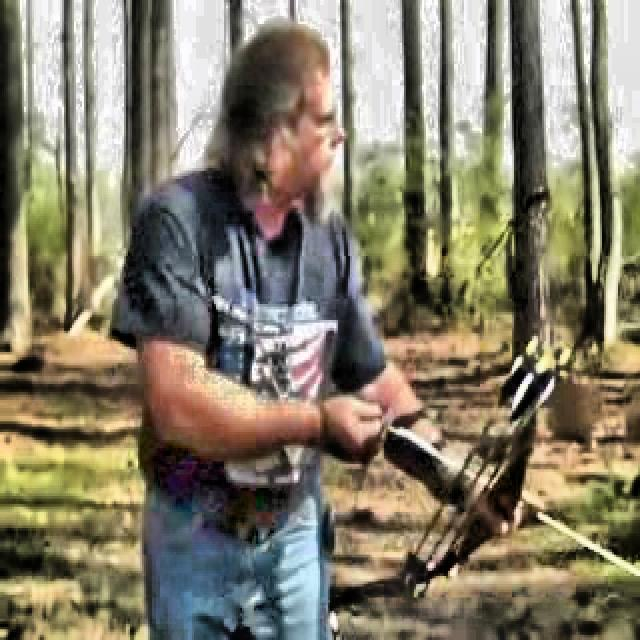I: (122, 12, 537, 640)
